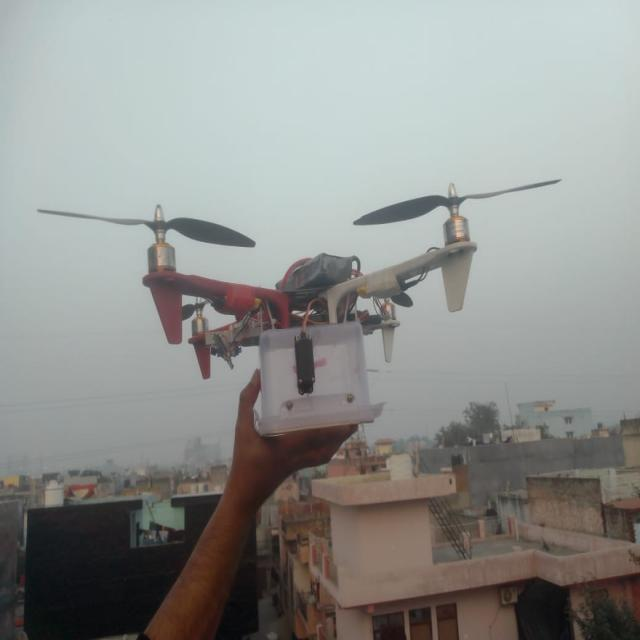Drone THREAT: (38, 194, 590, 438)
